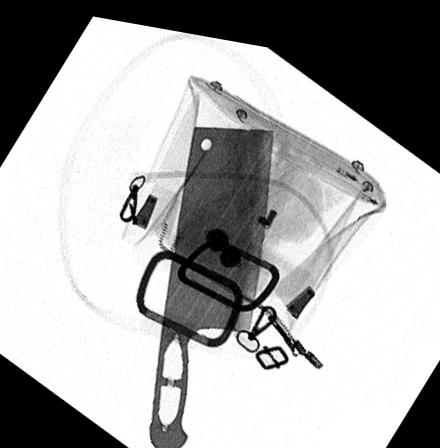Knife: (149, 117, 275, 447)
